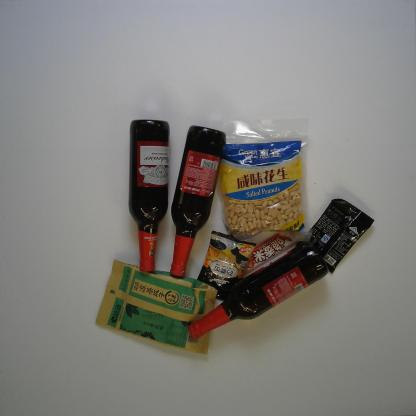Alcohol: (187, 239, 330, 340), (168, 124, 227, 279), (127, 118, 171, 273)
Chocolate: (245, 231, 304, 273)
Dried Food: (94, 259, 218, 356)
Dried Fruit: (210, 117, 313, 246)
Instant Drink: (295, 197, 375, 274), (196, 230, 258, 302)
